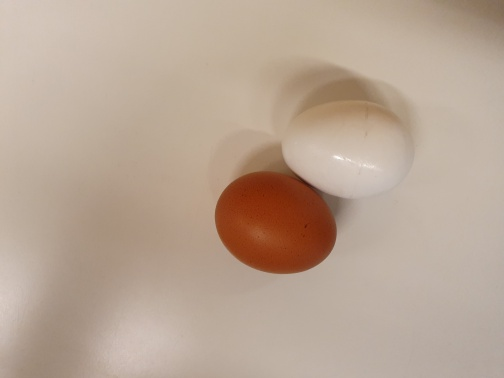egg: (214, 169, 338, 276), (281, 99, 412, 199)
